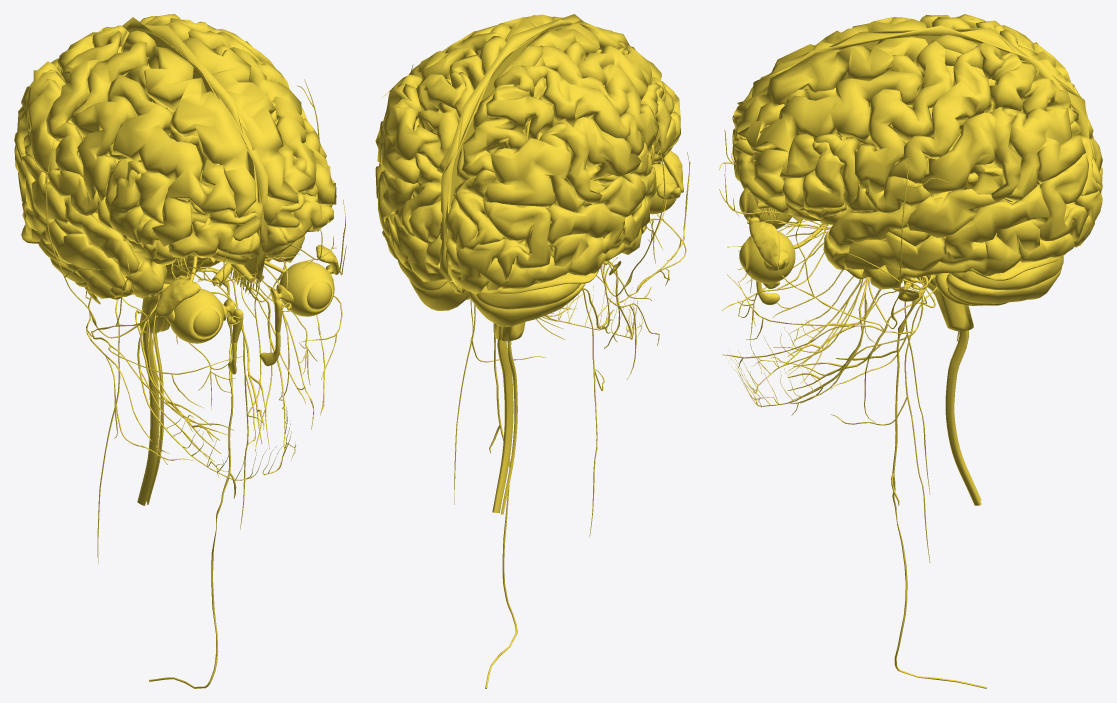
The model's file is nerves.glb.
3 views of the same model, side by side, from view 1: azimuth 30°, elevation 25°; view 2: azimuth 150°, elevation 25°; view 3: azimuth 270°, elevation 25° (orthographic). The views are drawn at different scales.
Parts seen in each view (by area): view 1: Middle frontal gyrus.r.001, Superior frontal gyrus.r.001, Superior frontal gyrus.l.001, Precentral gyrus.r.001, Middle frontal gyrus.l.001, Postcentral gyrus.r.001, Falx cerebri.001, Superior temporal gyrus (Lateral part).r.001, Middle temporal gyrus.r.001, Supramarginal gyrus.r.001, Cuneate fasciculus.001, Orbital gyri (Frontomarginal gyrus and sulcus*).r.001 (+33 smaller); view 2: Angular gyrus.r.001, Superior parietal lobule.r.001, Falx cerebri.001, Supramarginal gyrus.r.001, Postcentral gyrus.r.001, Lateral occipital gyrus (Middle occipital gyrus*).r.001, Precentral gyrus.r.001, Middle temporal gyrus.r.001, Angular gyrus.l.001, Superior parietal lobule.l.001, Cuneate fasciculus.001, Middle frontal gyrus.r.001 (+28 smaller); view 3: Middle frontal gyrus.l.001, Precentral gyrus.l.001, Middle temporal gyrus.l.001, Superior frontal gyrus.l.001, Supramarginal gyrus.l.001, Postcentral gyrus.l.001, Superior temporal gyrus (Lateral part).l.001, Angular gyrus.l.001, Falx cerebri.001, Inferior temporal gyrus.l.001, Superior parietal lobule.l.001, Lateral occipital gyrus (Middle occipital gyrus*).l.001 (+27 smaller).
Part boxes in pixels (left/top/right/bottom): Middle frontal gyrus.r.001: left=107, top=74, right=235, bottom=246; Superior frontal gyrus.r.001: left=144, top=46, right=263, bottom=219; Superior frontal gyrus.l.001: left=183, top=37, right=298, bottom=224; Precentral gyrus.r.001: left=71, top=41, right=148, bottom=201; Middle frontal gyrus.l.001: left=229, top=47, right=336, bottom=204; Postcentral gyrus.r.001: left=46, top=31, right=121, bottom=180; Falx cerebri.001: left=117, top=17, right=267, bottom=283; Superior temporal gyrus (Lateral part).r.001: left=22, top=155, right=139, bottom=276; Middle temporal gyrus.r.001: left=14, top=145, right=126, bottom=291; Supramarginal gyrus.r.001: left=14, top=71, right=65, bottom=174; Cuneate fasciculus.001: left=137, top=332, right=163, bottom=505; Orbital gyri (Frontomarginal gyrus and sulcus*).r.001: left=168, top=216, right=253, bottom=258; Angular gyrus.r.001: left=482, top=123, right=585, bottom=211; Superior parietal lobule.r.001: left=461, top=86, right=553, bottom=178; Falx cerebri.001: left=440, top=14, right=612, bottom=294; Supramarginal gyrus.r.001: left=551, top=117, right=641, bottom=204; Postcentral gyrus.r.001: left=523, top=66, right=644, bottom=155; Lateral occipital gyrus (Middle occipital gyrus*).r.001: left=483, top=201, right=550, bottom=280; Precentral gyrus.r.001: left=535, top=45, right=658, bottom=153; Middle temporal gyrus.r.001: left=546, top=196, right=651, bottom=253; Angular gyrus.l.001: left=377, top=84, right=438, bottom=183; Superior parietal lobule.l.001: left=416, top=72, right=465, bottom=168; Cuneate fasciculus.001: left=492, top=340, right=517, bottom=514; Middle frontal gyrus.r.001: left=577, top=44, right=680, bottom=118; Middle frontal gyrus.l.001: left=737, top=71, right=922, bottom=197; Precentral gyrus.l.001: left=855, top=40, right=962, bottom=194; Middle temporal gyrus.l.001: left=844, top=184, right=1049, bottom=272; Superior frontal gyrus.l.001: left=734, top=37, right=928, bottom=141; Supramarginal gyrus.l.001: left=921, top=107, right=1021, bottom=202; Postcentral gyrus.l.001: left=887, top=46, right=991, bottom=183; Superior temporal gyrus (Lateral part).l.001: left=828, top=189, right=996, bottom=253; Angular gyrus.l.001: left=1002, top=108, right=1085, bottom=201; Falx cerebri.001: left=746, top=25, right=1089, bottom=223; Inferior temporal gyrus.l.001: left=862, top=219, right=1044, bottom=289; Superior parietal lobule.l.001: left=989, top=54, right=1078, bottom=124; Lateral occipital gyrus (Middle occipital gyrus*).l.001: left=1037, top=150, right=1088, bottom=241.
Bounding box in the file's own units: 0.1524 × 0.356 × 0.1871.
